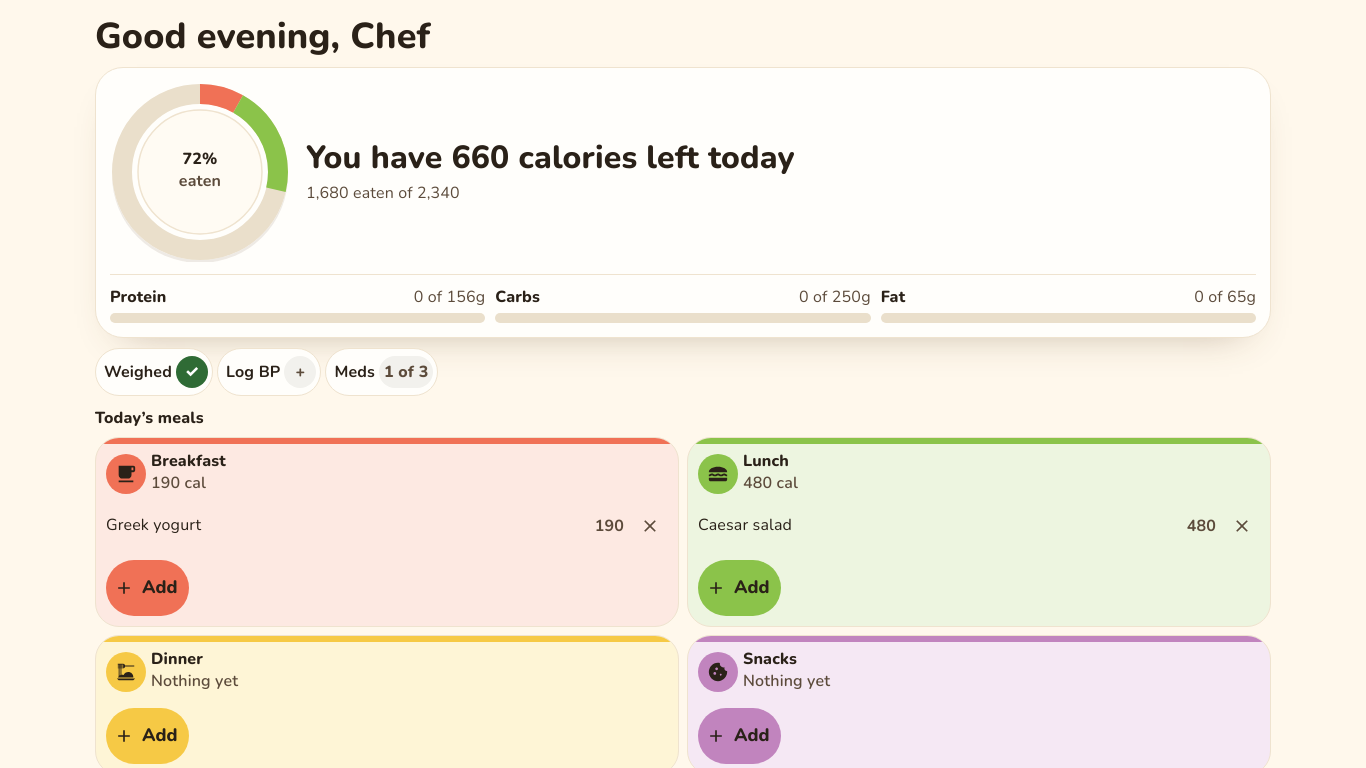
Test: meal cards › each card's + Add opens the add sheet already set to that meal
Click the button with aria-label "Add to lunch": (740, 588) left=698, top=560, right=781, bottom=616
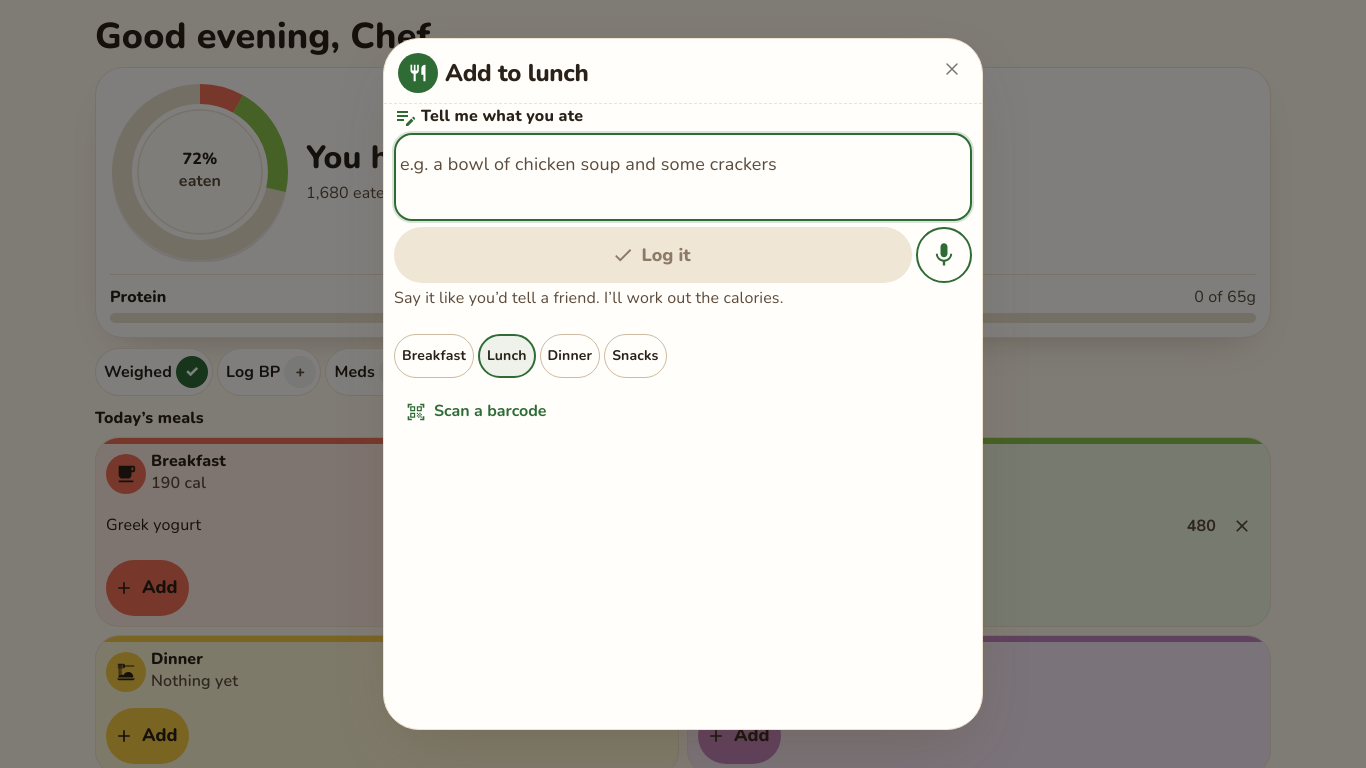
Expected: the heading "Add to lunch" is shown, left=445, top=60, right=589, bottom=87
Expected: the button "Lunch" is shown, left=478, top=334, right=536, bottom=378
Expected: the button "Breakfast" is shown, left=394, top=334, right=474, bottom=378
